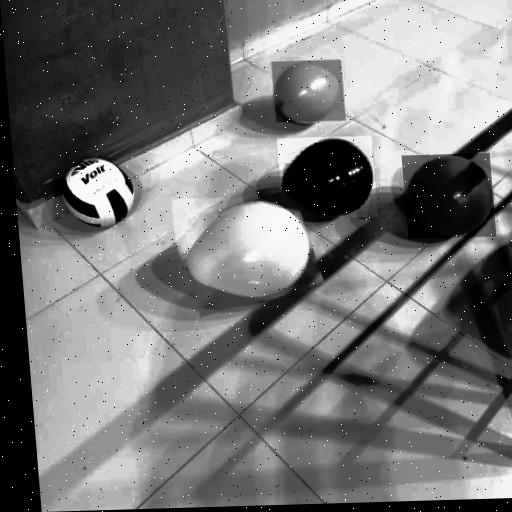balloon: (172, 195, 321, 311), (277, 136, 378, 220), (402, 153, 496, 239), (271, 60, 346, 123)
